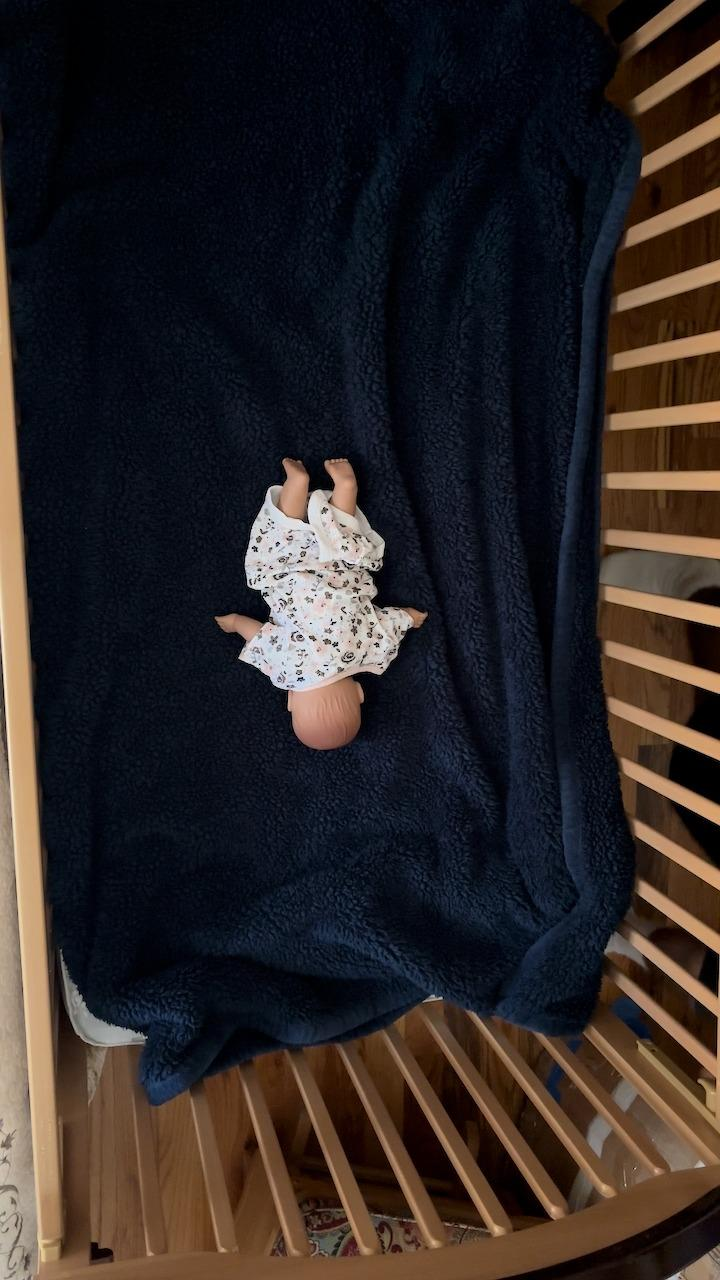baby: (214, 452, 432, 750)
